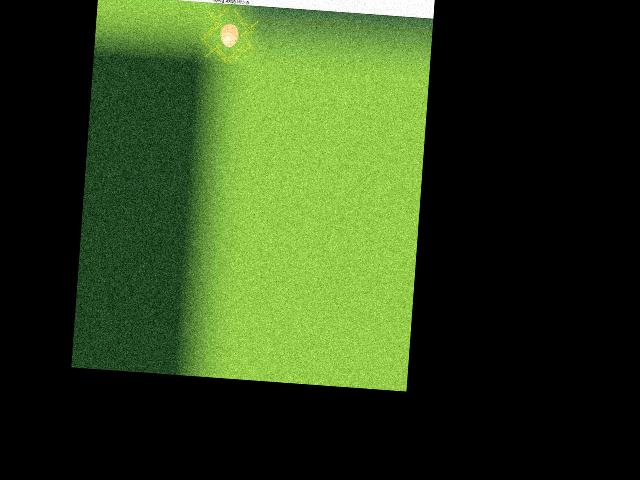egg: (219, 23, 238, 48)
